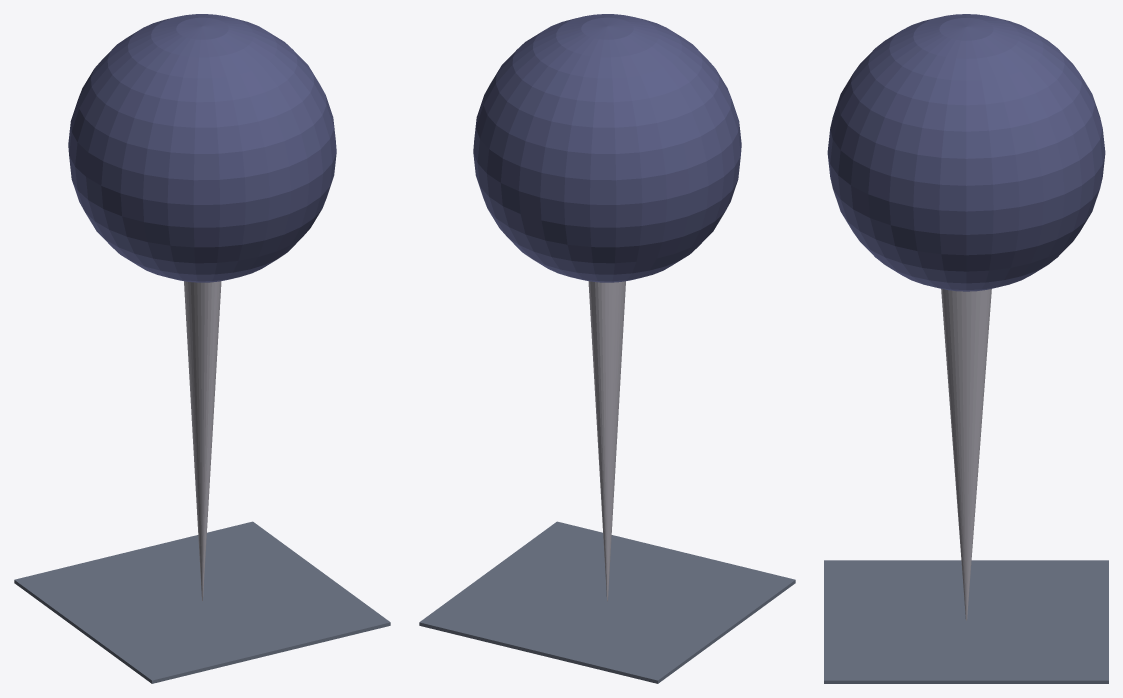
File: Anchor.fbx
The picture shows the model from 3 angles, left to right: view 1: azimuth 30°, elevation 25°; view 2: azimuth 150°, elevation 25°; view 3: azimuth 270°, elevation 25°; orthographic projection. The views are drawn at different scales.
Parts seen in each view (by area): view 1: Sphere, Cube, Cone; view 2: Sphere, Cube, Cone; view 3: Sphere, Cube, Cone.
Boxes of the visible parts, left/top/right/bottom form: Sphere: left=68, top=14, right=336, bottom=282; Cube: left=14, top=521, right=390, bottom=683; Cone: left=184, top=281, right=221, bottom=601; Sphere: left=473, top=14, right=741, bottom=282; Cube: left=419, top=521, right=795, bottom=683; Cone: left=588, top=281, right=625, bottom=601; Sphere: left=827, top=14, right=1105, bottom=291; Cube: left=824, top=560, right=1108, bottom=683; Cone: left=941, top=289, right=991, bottom=620.
Size of the model in its own units: 107 by 249 by 107.
